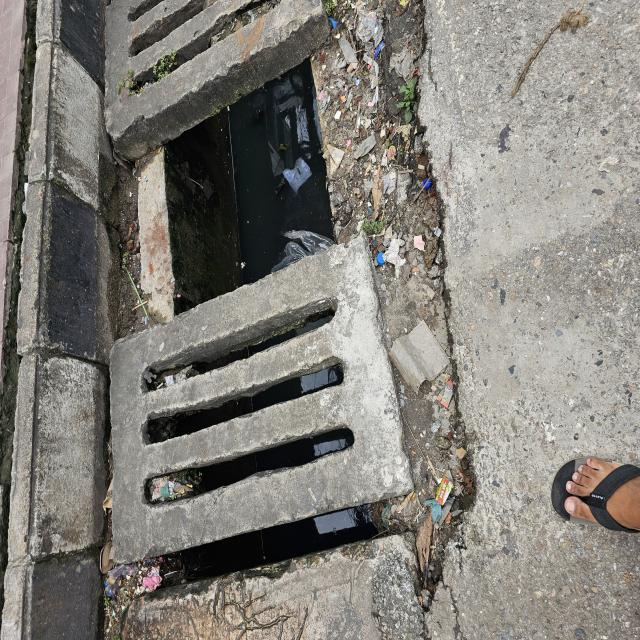drain_inlet: (160, 53, 339, 312)
